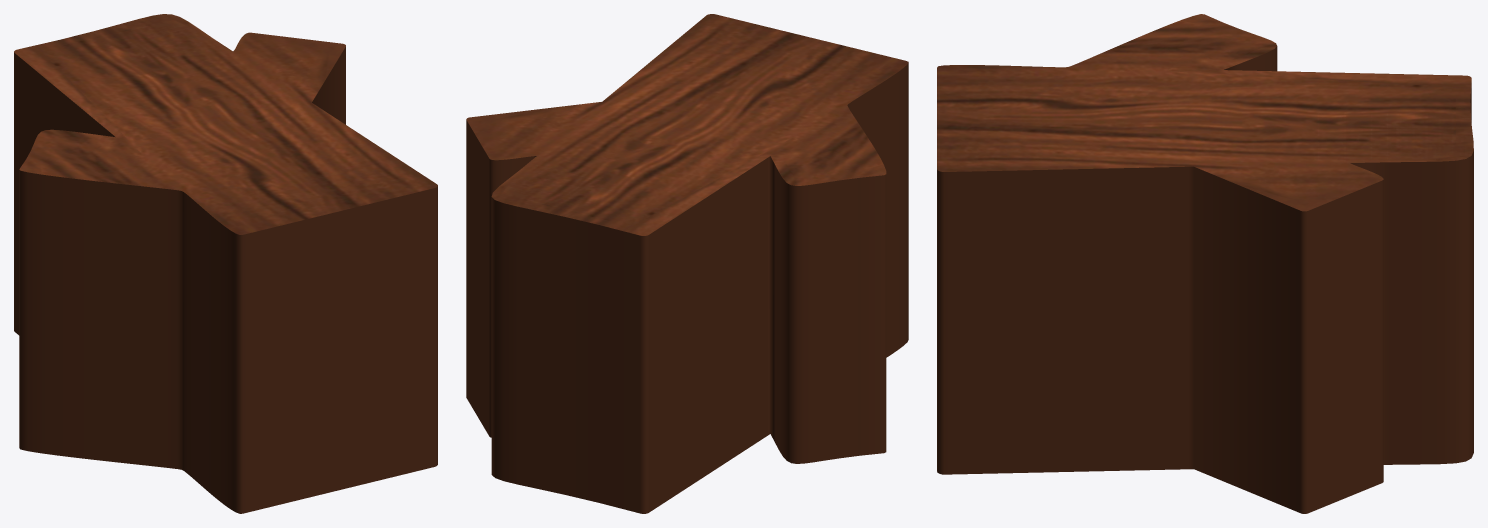
File: wood.glb
The picture shows the model from 3 angles, left to right: view 1: azimuth 30°, elevation 25°; view 2: azimuth 150°, elevation 25°; view 3: azimuth 270°, elevation 25°; orthographic projection. The views are drawn at different scales.
Visible parts, largest first — view 1: wood; view 2: wood; view 3: wood.
Part boxes in pixels (left/top/right/bottom): wood: left=14, top=14, right=437, bottom=513; wood: left=466, top=14, right=908, bottom=513; wood: left=937, top=14, right=1473, bottom=513.
Size of the model in its own units: 0.8704 by 0.622 by 1.
1 material, 1 textured.
